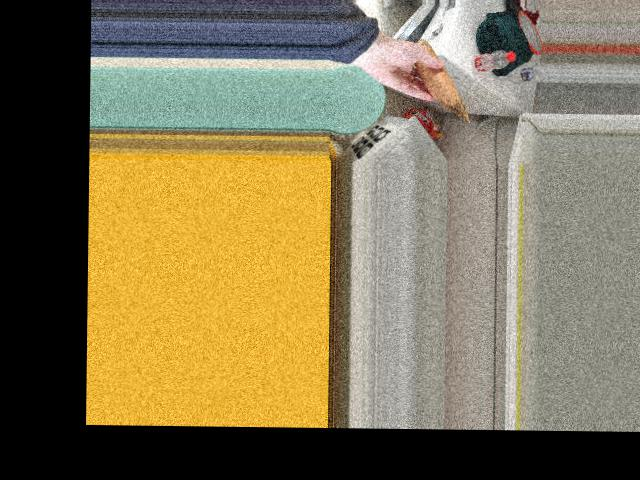sweet_potato: (415, 53, 460, 100)
